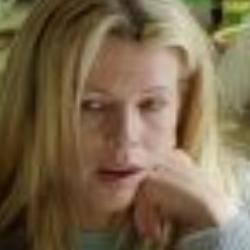face: (10, 3, 221, 226)
